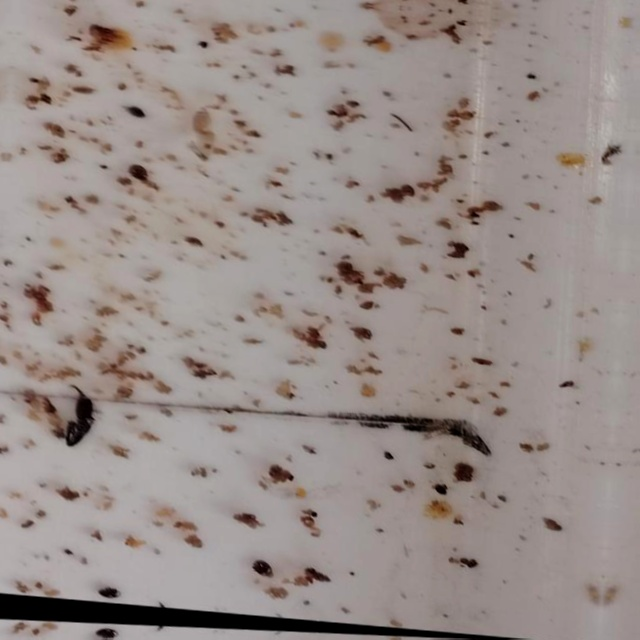varroa: (95, 588, 122, 604), (127, 167, 149, 186), (253, 562, 272, 581)
